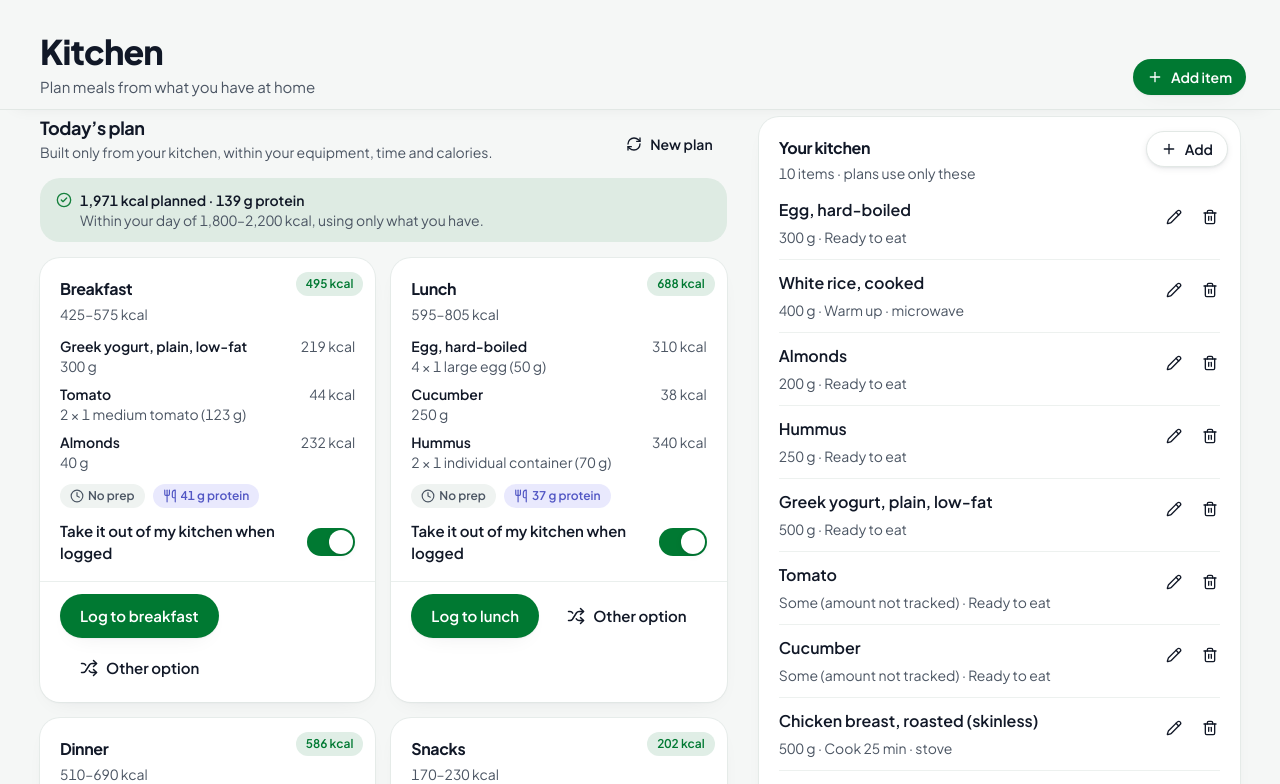
Kitchen screen › plans the day from the kitchen and logs a planned meal, taking it out of the kitchen
expect the element with test id "day-total" shows "kcal planned": met, box [118, 191, 216, 209]
Click the button "Log to breakfast": (139, 616) [60, 594, 219, 638]
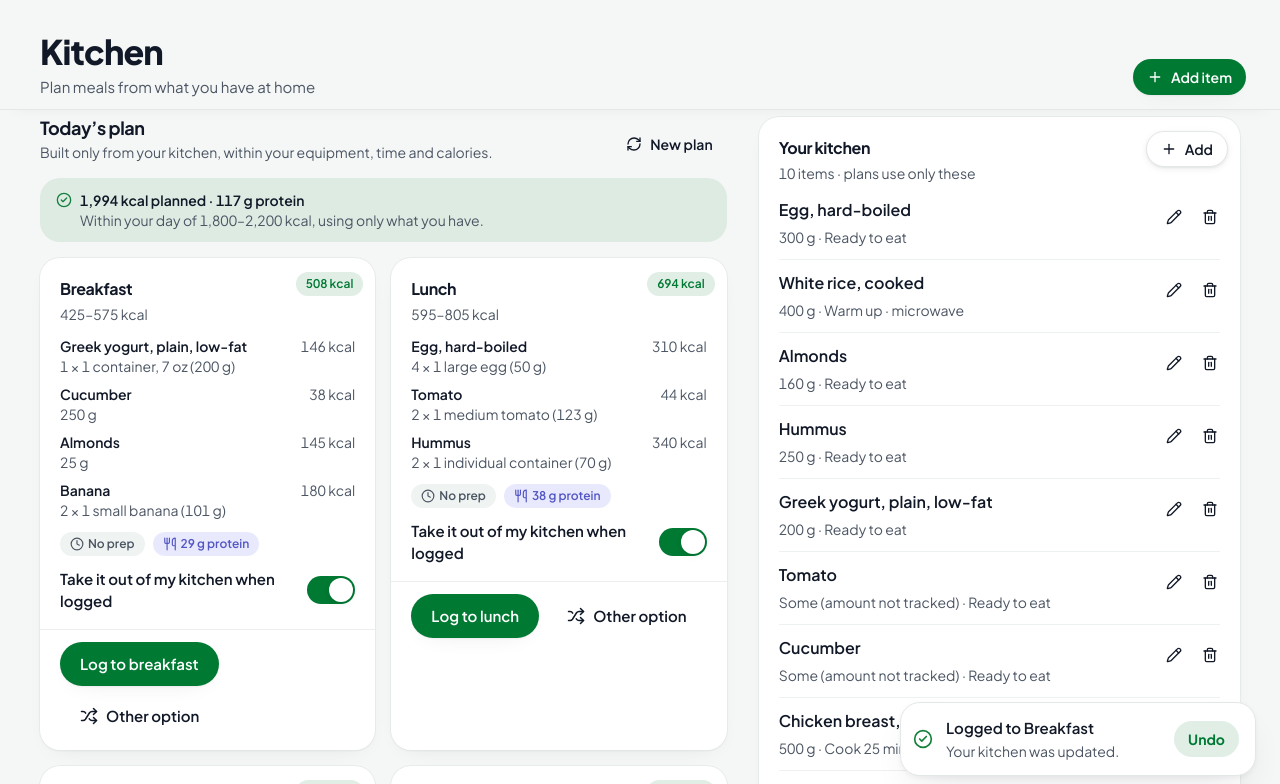
expect the text "Logged to Breakfast" is shown: met, box [946, 716, 1119, 739]
